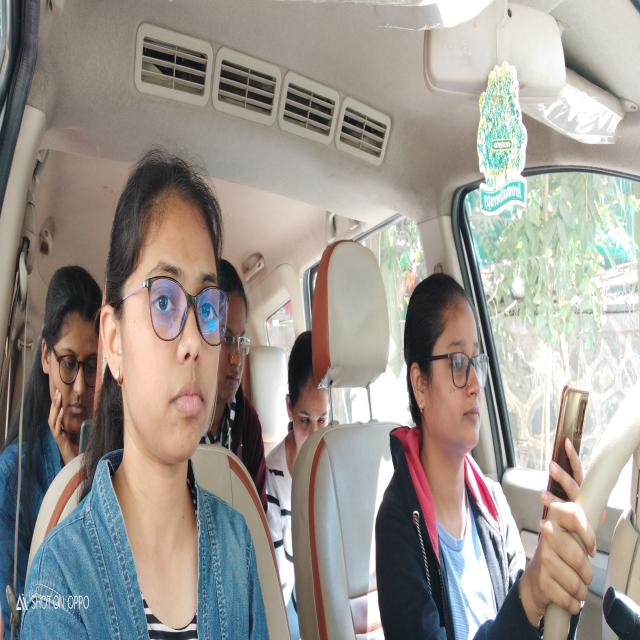mobile: (542, 368, 591, 534)
person: (103, 143, 224, 451), (401, 269, 491, 466), (38, 258, 104, 438), (216, 252, 256, 415), (284, 327, 331, 449)
